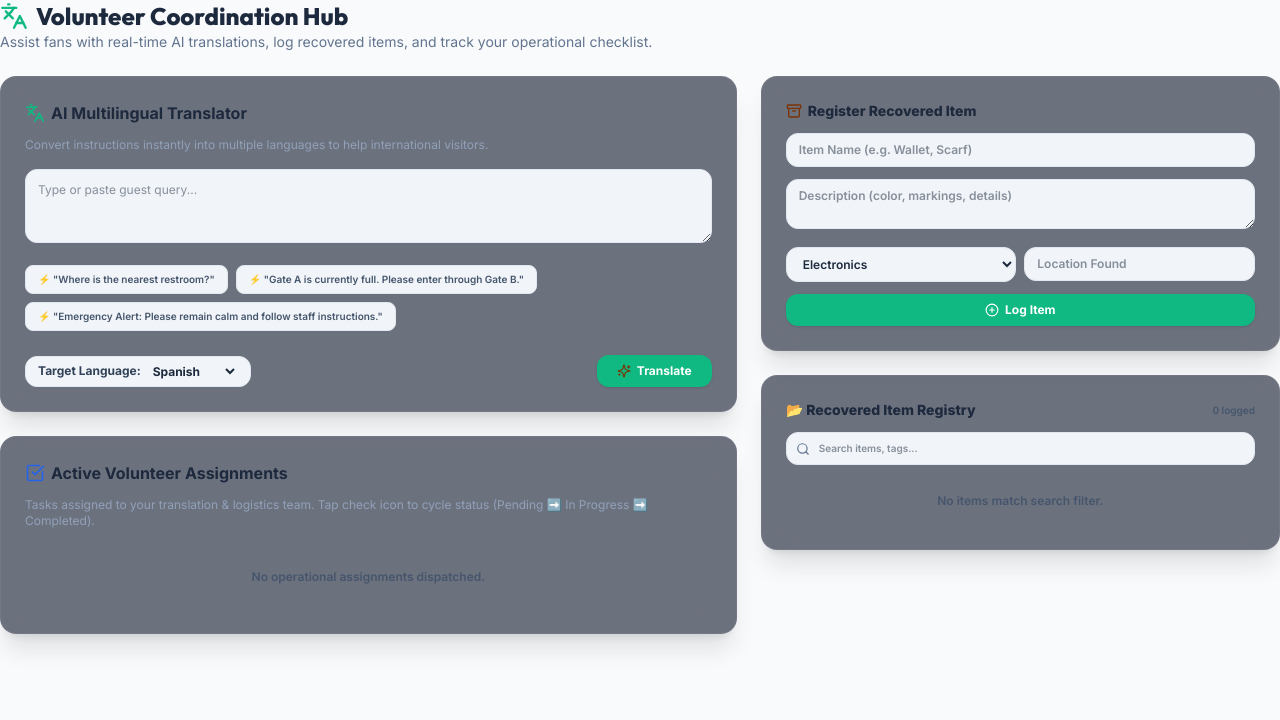
Test: Dashboard Integration Tests › VolunteerDashboard Page › allows translating input messages
The width and height of the screenshot is (1280, 720).
Type "Where is the exit?" into the text box with placeholder "Type or paste guest query...". click: (368, 206)
box: x1=25 y1=169 x2=712 y2=243
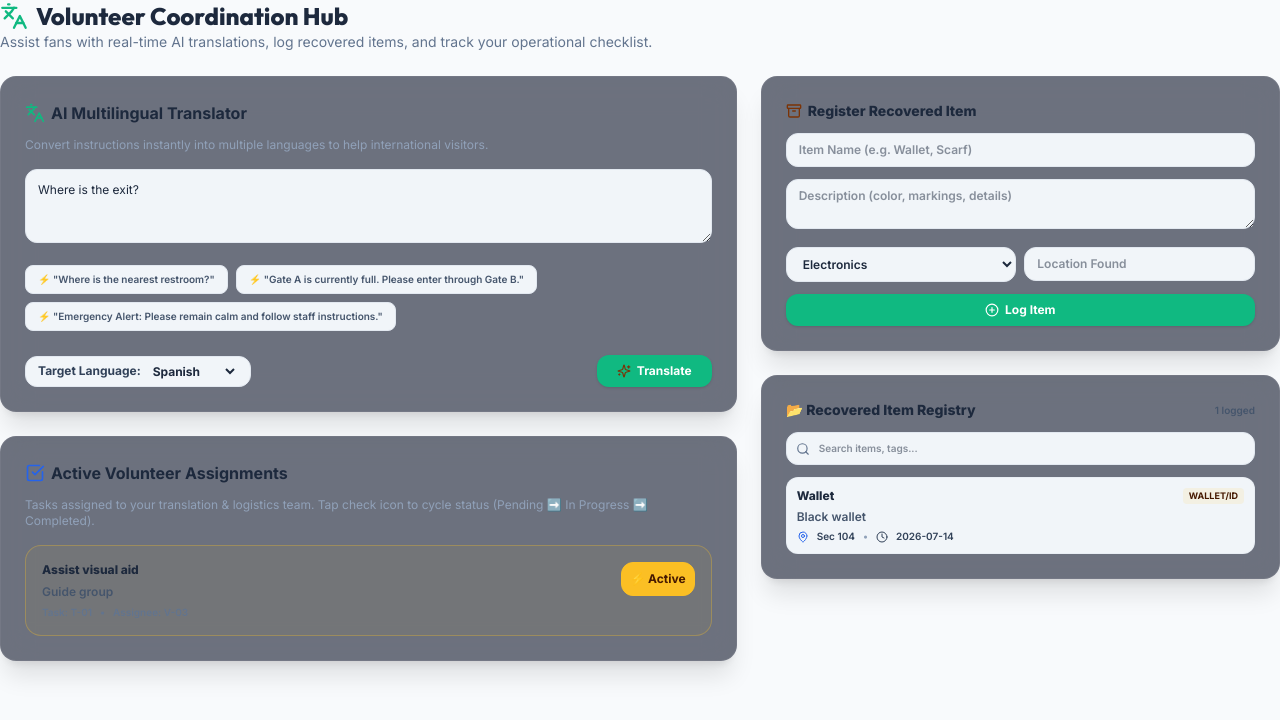
Click the button titled "Translate query text". click: (654, 371)
box: x1=597 y1=355 x2=712 y2=387
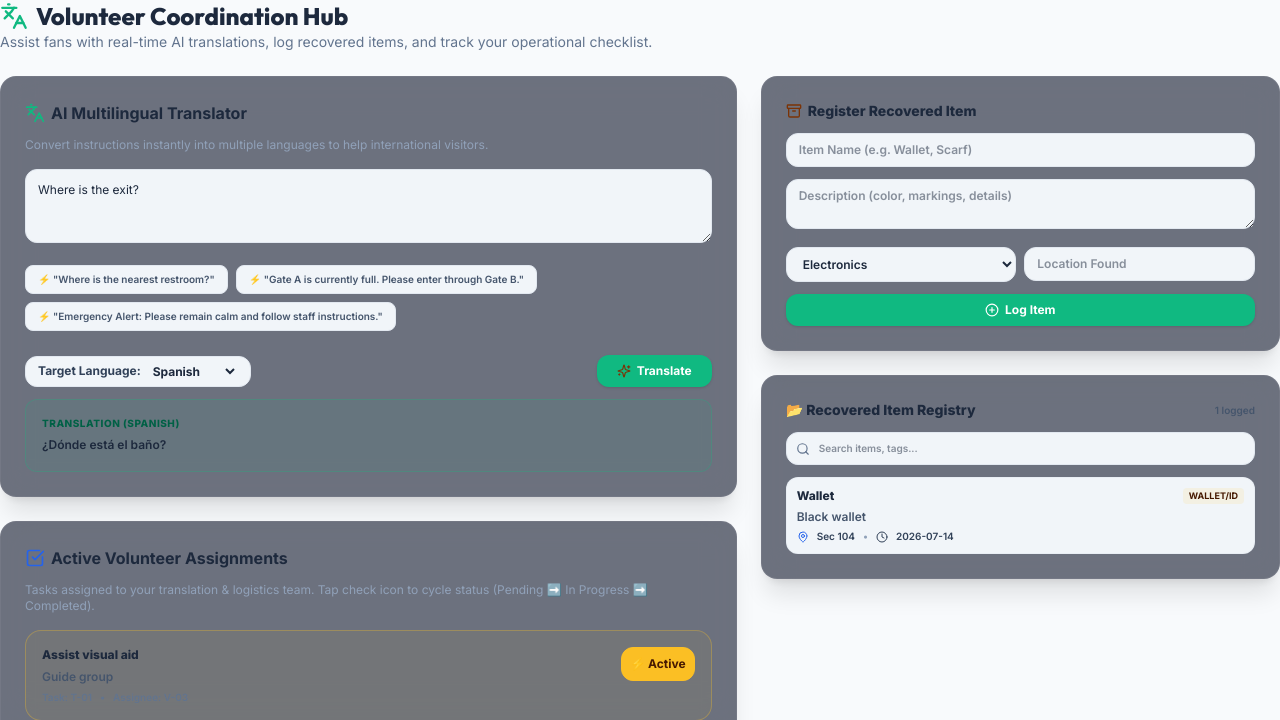
Check: the text "¿Dónde está el baño?" is shown, box x1=42 y1=437 x2=166 y2=452
